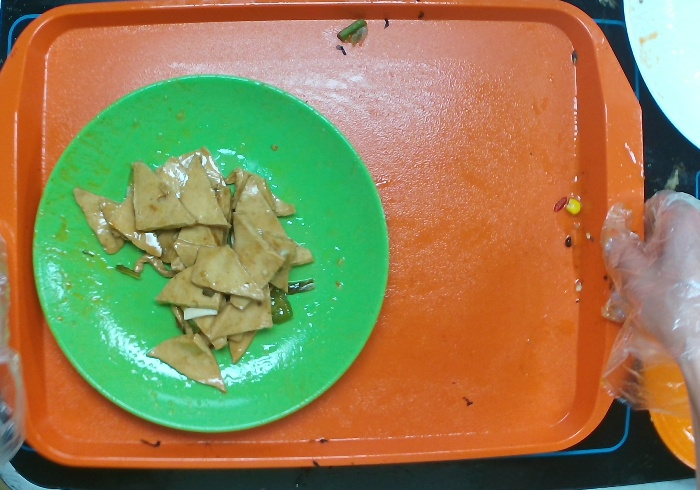HZYJPL-Lv_Se_Yuan_Pan: (28, 71, 395, 437)
